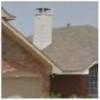chimneys: (32, 6, 55, 53)
